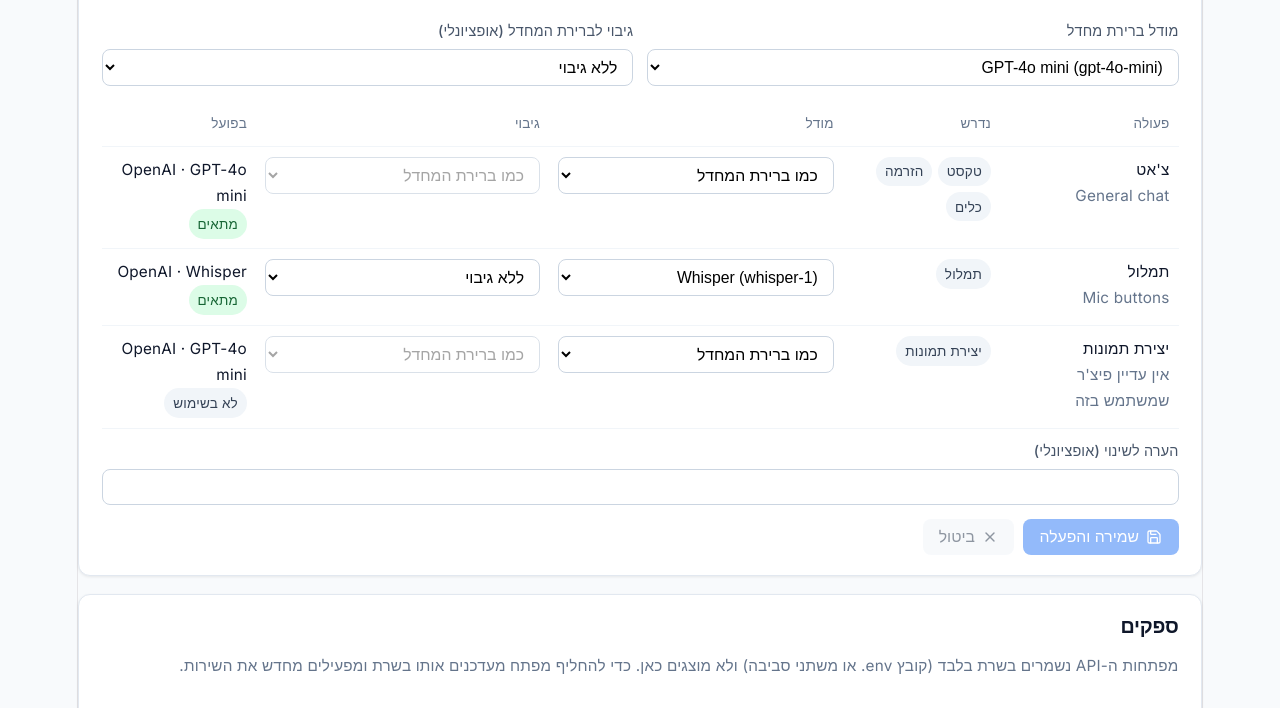
Scenario: AiSettings › an image model chosen ahead of time does not block saving while no feature makes images
(page scrolled)
Select "GPT Image 2.5 Flare (gpt-image-2.5-flare)" in the dropdown named "מודל עבור יצירת תמונות" at (696, 354), box [558,336,834,373]
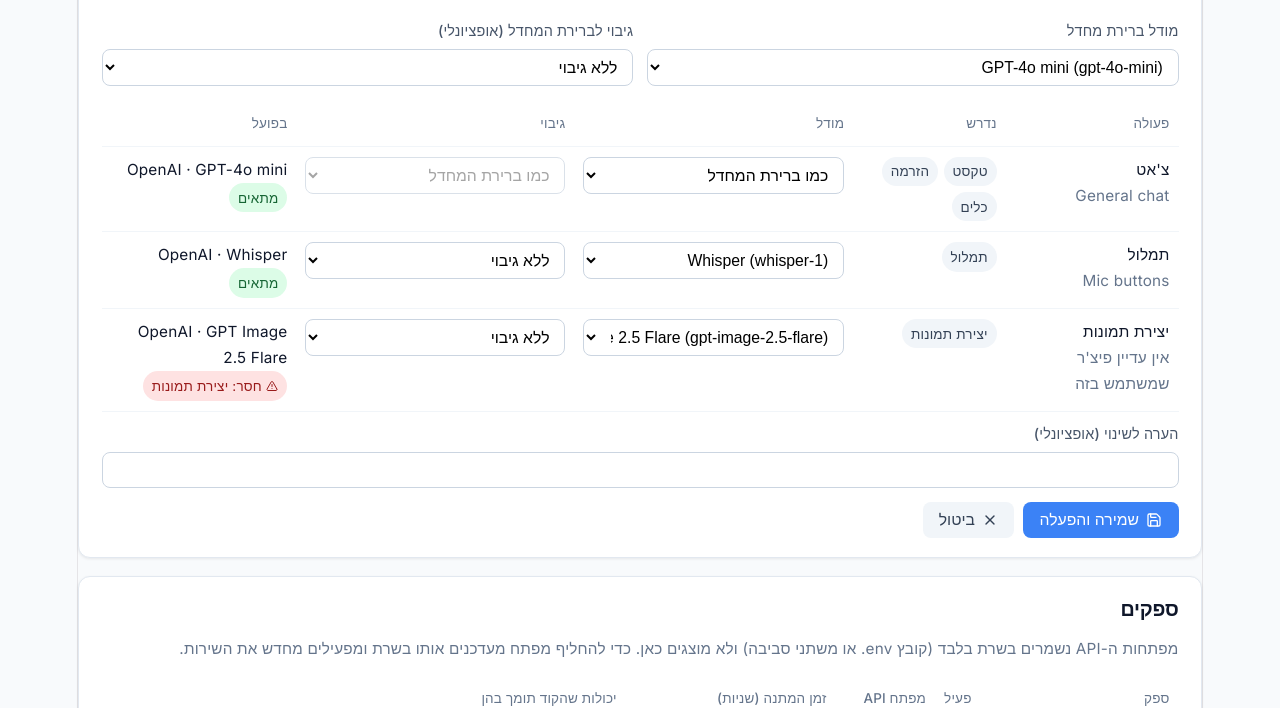
expect the text "חסר: יצירת תמונות" is shown: met, box [143,371,287,401]
